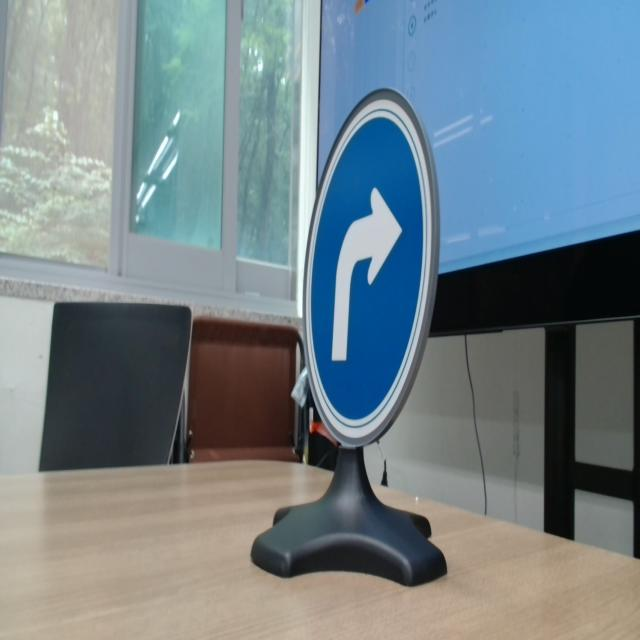right_dierection: (293, 77, 474, 470)
